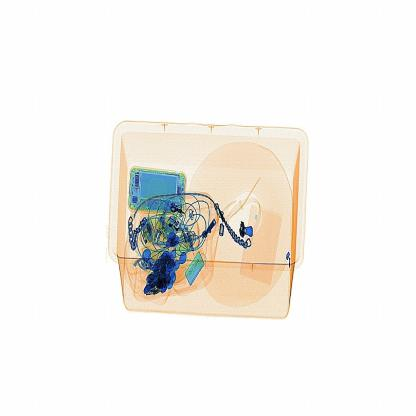wrench: (233, 216, 270, 251)
